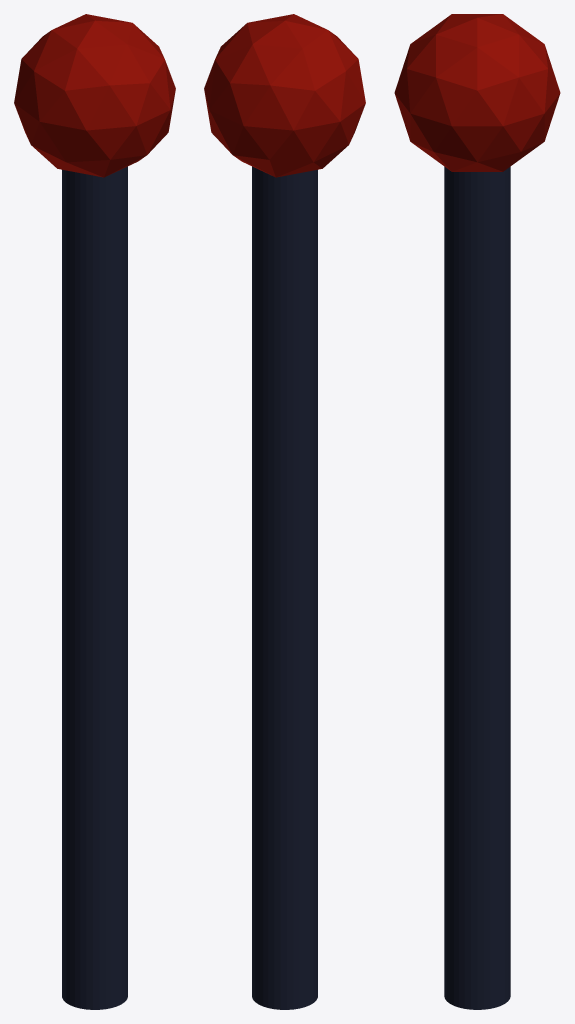
File: lever_handle.glb
The picture shows the model from 3 angles, left to right: view 1: azimuth 30°, elevation 25°; view 2: azimuth 150°, elevation 25°; view 3: azimuth 270°, elevation 25°; orthographic projection.
Visible parts, largest first — view 1: LeverHandle; view 2: LeverHandle; view 3: LeverHandle.
Part boxes in pixels (x1,y1,x2,y2): LeverHandle: (14,14,175,1009); LeverHandle: (204,14,365,1009); LeverHandle: (394,14,560,1009).
Bounding box in the file's own units: 0.2378 × 1.63 × 0.25.
